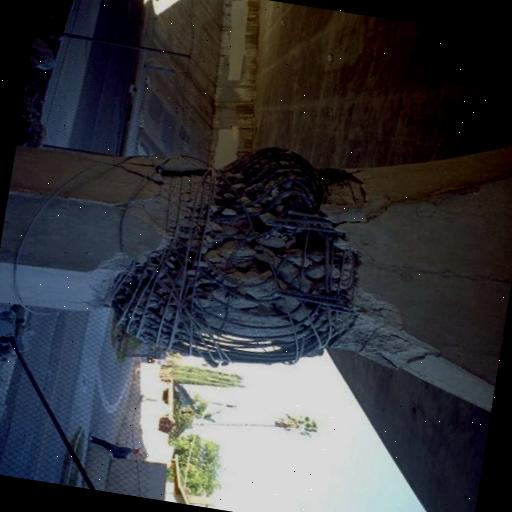spalling: (100, 121, 376, 374)
